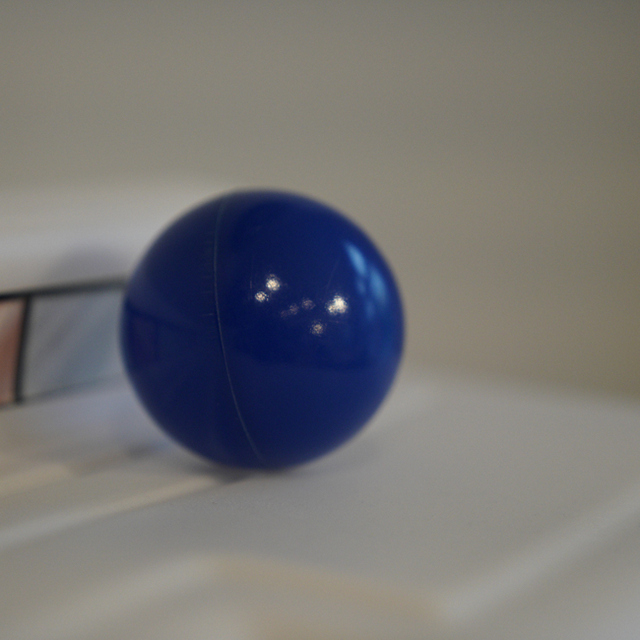Ball: (118, 186, 401, 473)
